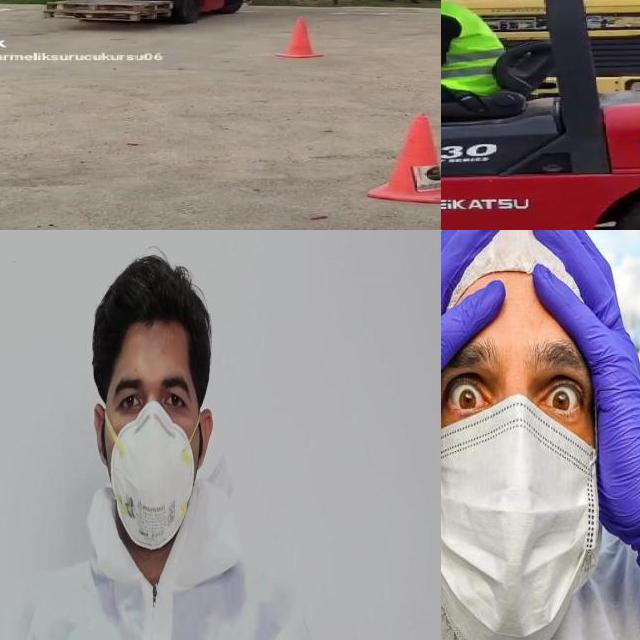Glove: (527, 230, 640, 567), (441, 230, 507, 547)
MASK: (441, 395, 603, 640), (110, 402, 194, 552)
